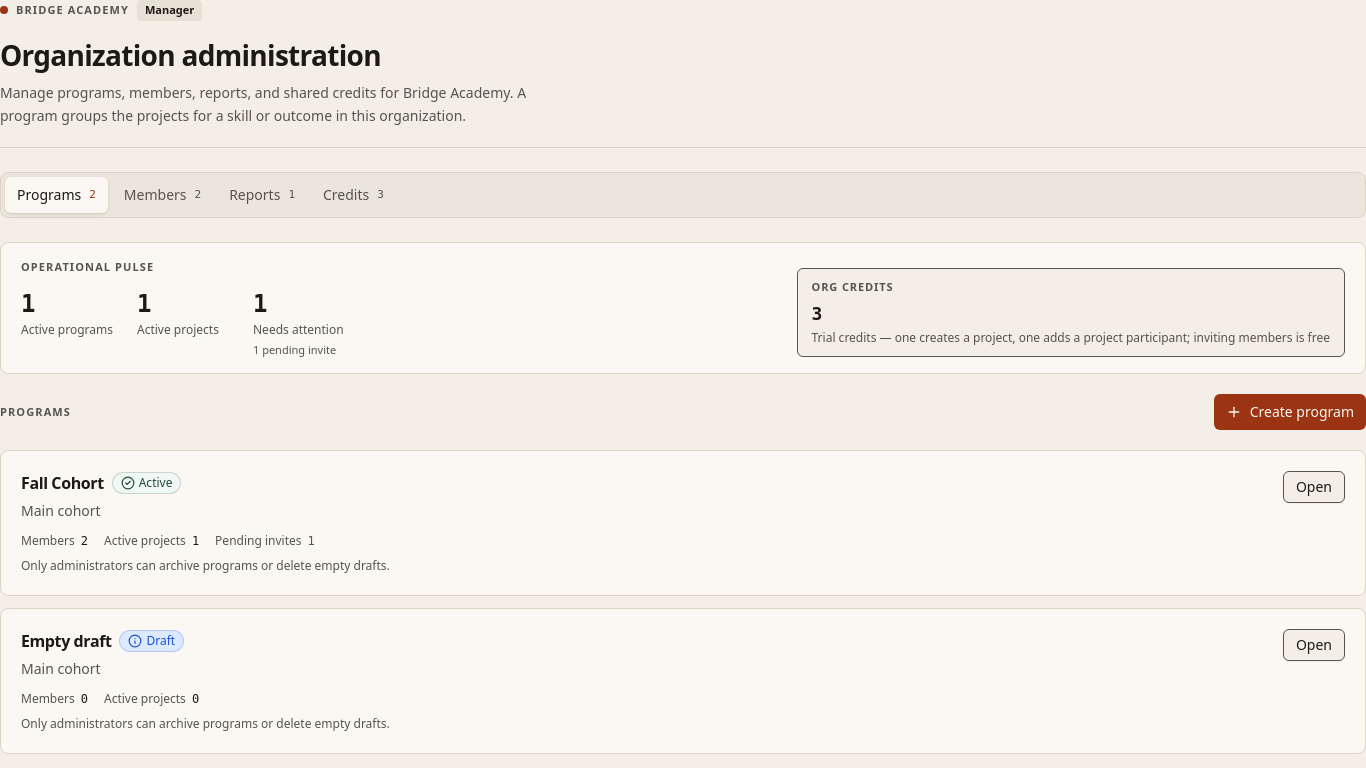
OrgAdminPage › hides archive, delete, and remove for managers
The image size is (1366, 768).
Expected: the heading "Fall Cohort" is shown, [21,471,104,495]
Click the button "Members 2" at (162, 195), box [112,177,213,213]
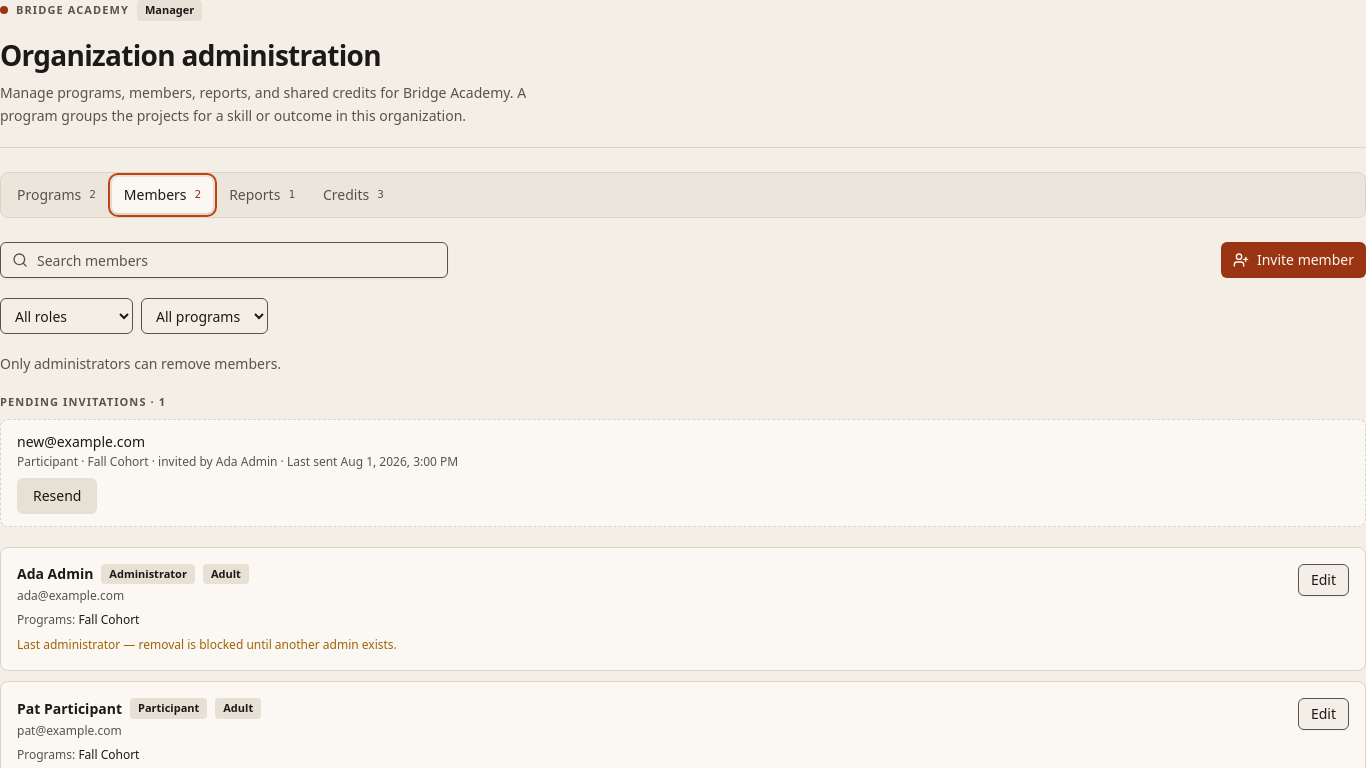
Result: the text "Pat Participant" is shown at [17,699,122,719]
Result: the text "Only administrators can remove members." is shown at [0,354,281,373]
